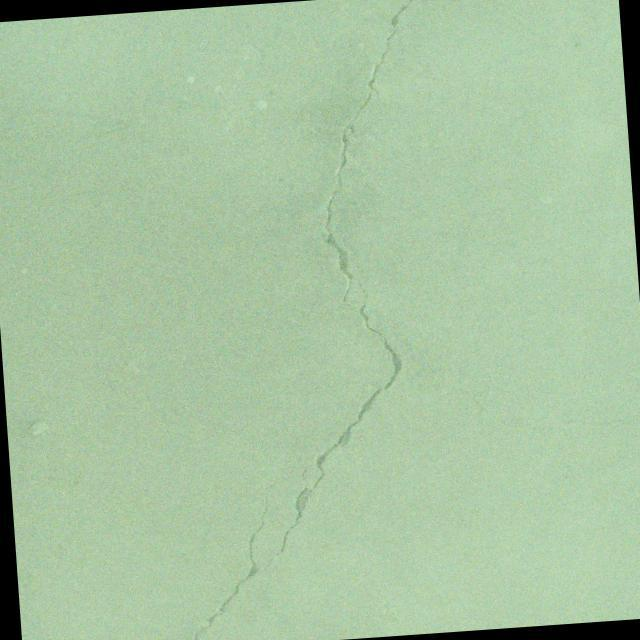crack: (224, 0, 454, 569), (176, 479, 290, 640), (438, 368, 640, 441)
